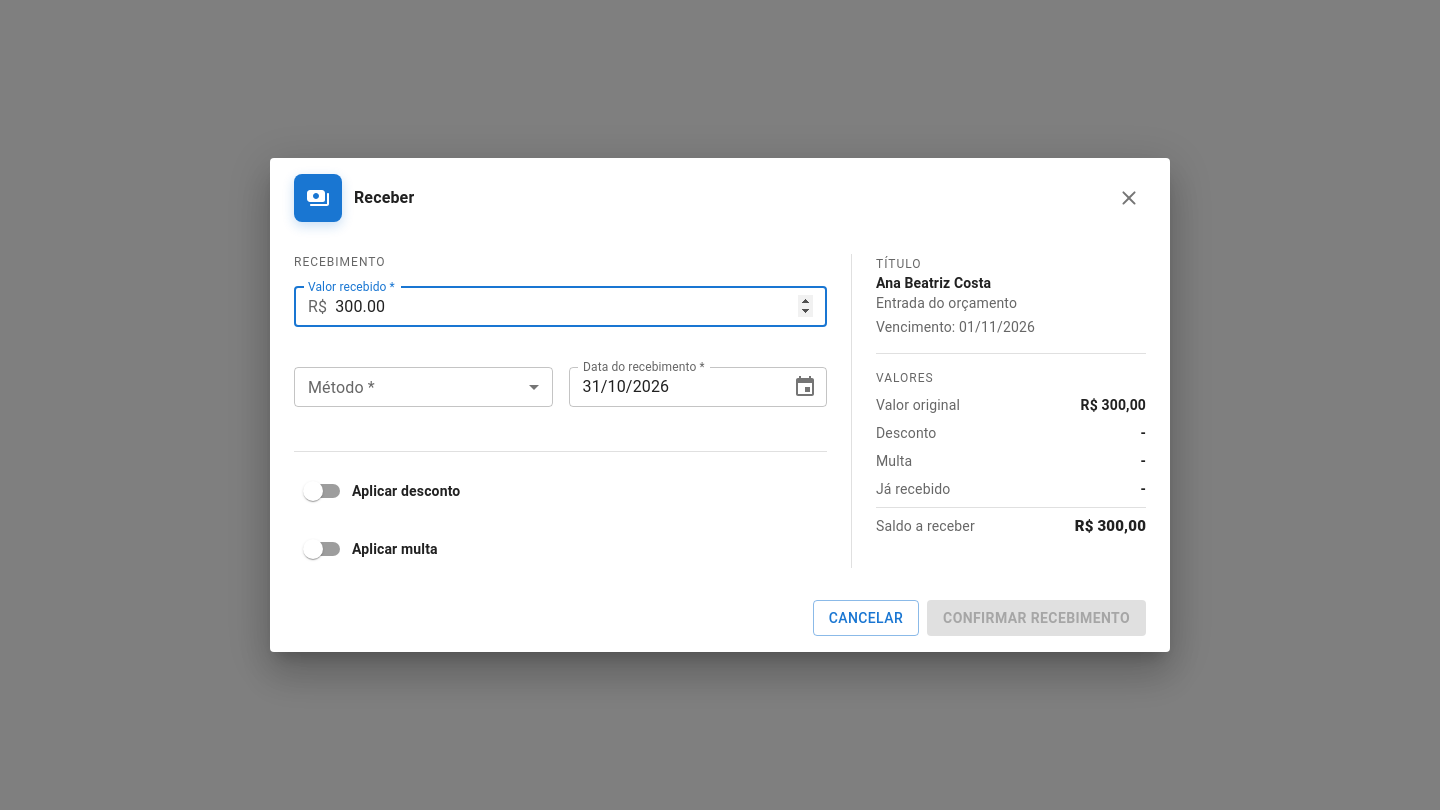
Test: ReceberTituloDialog (receber + desconto na mesma tela) › o desconto fica escondido até ligar o interruptor, e desligar de novo descarta o desconto digitado
Check: the field labelled "valor do desconto" is not shown
Check: the field labelled "motivo do desconto" is not shown
Click the switch labelled "Aplicar desconto" at [382, 490], box [303,480,460,500]
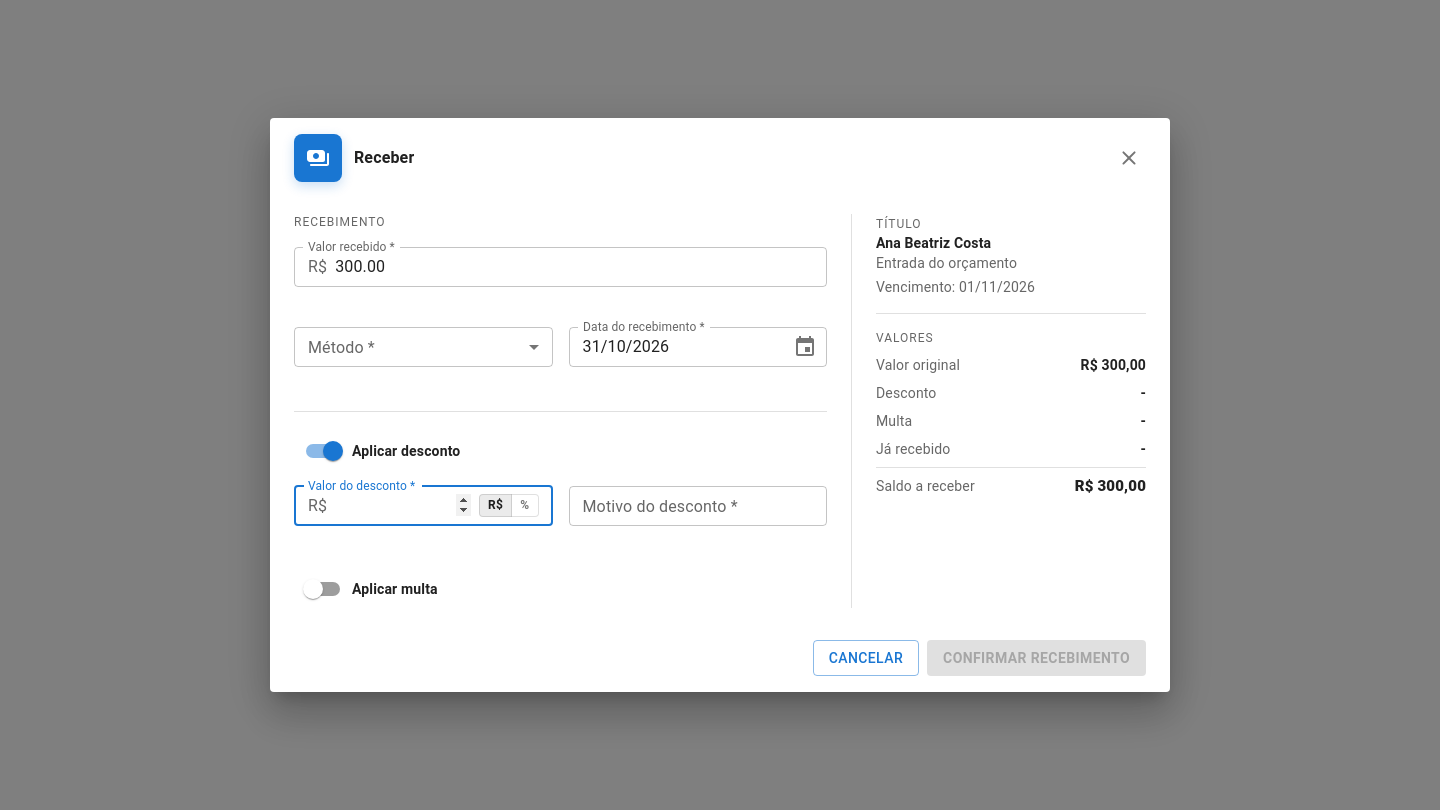
Type "50" into the number field labelled "Valor do desconto *" at [403, 506], box [335,486,471,526]
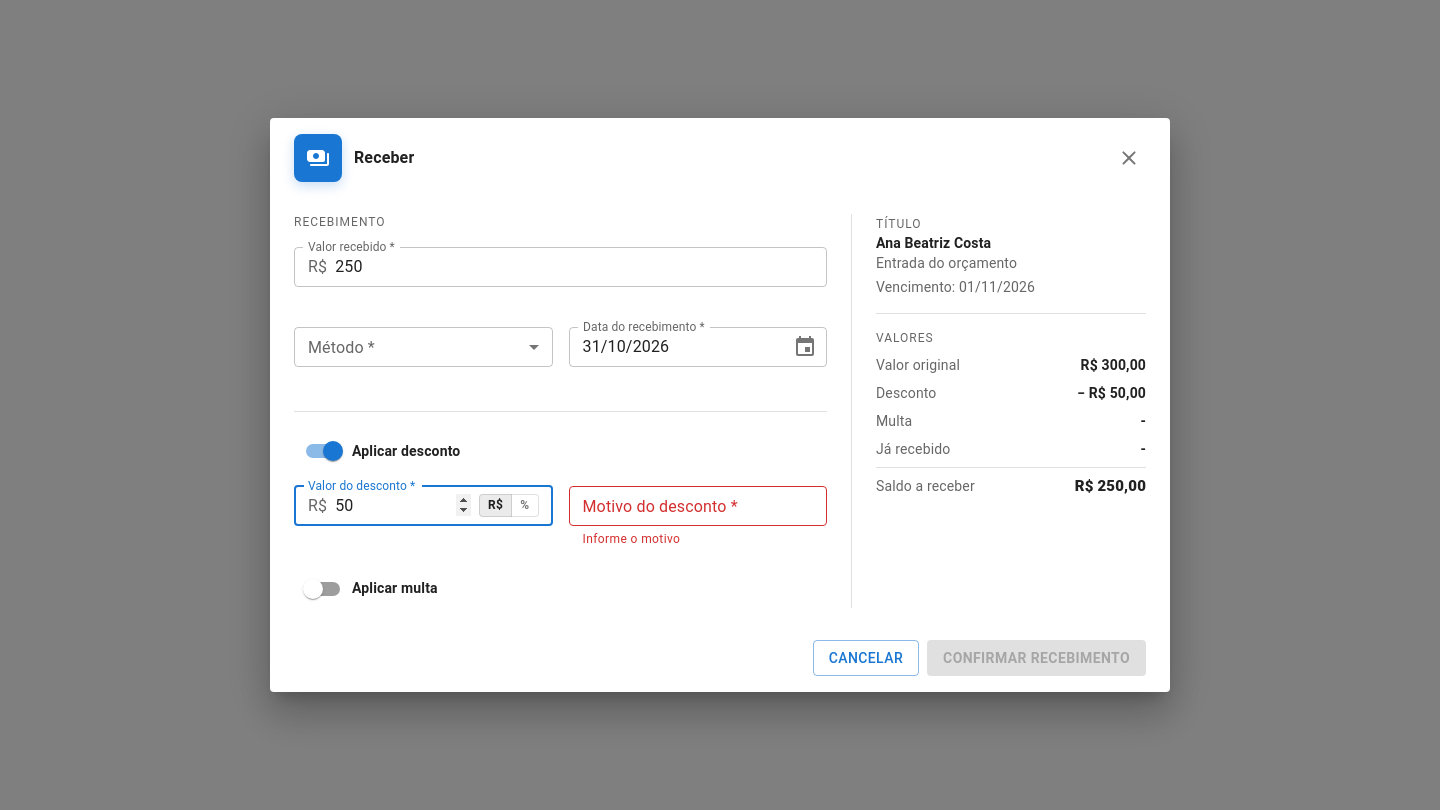
Click the switch labelled "Aplicar desconto" at [383, 451], box [306,441,460,461]
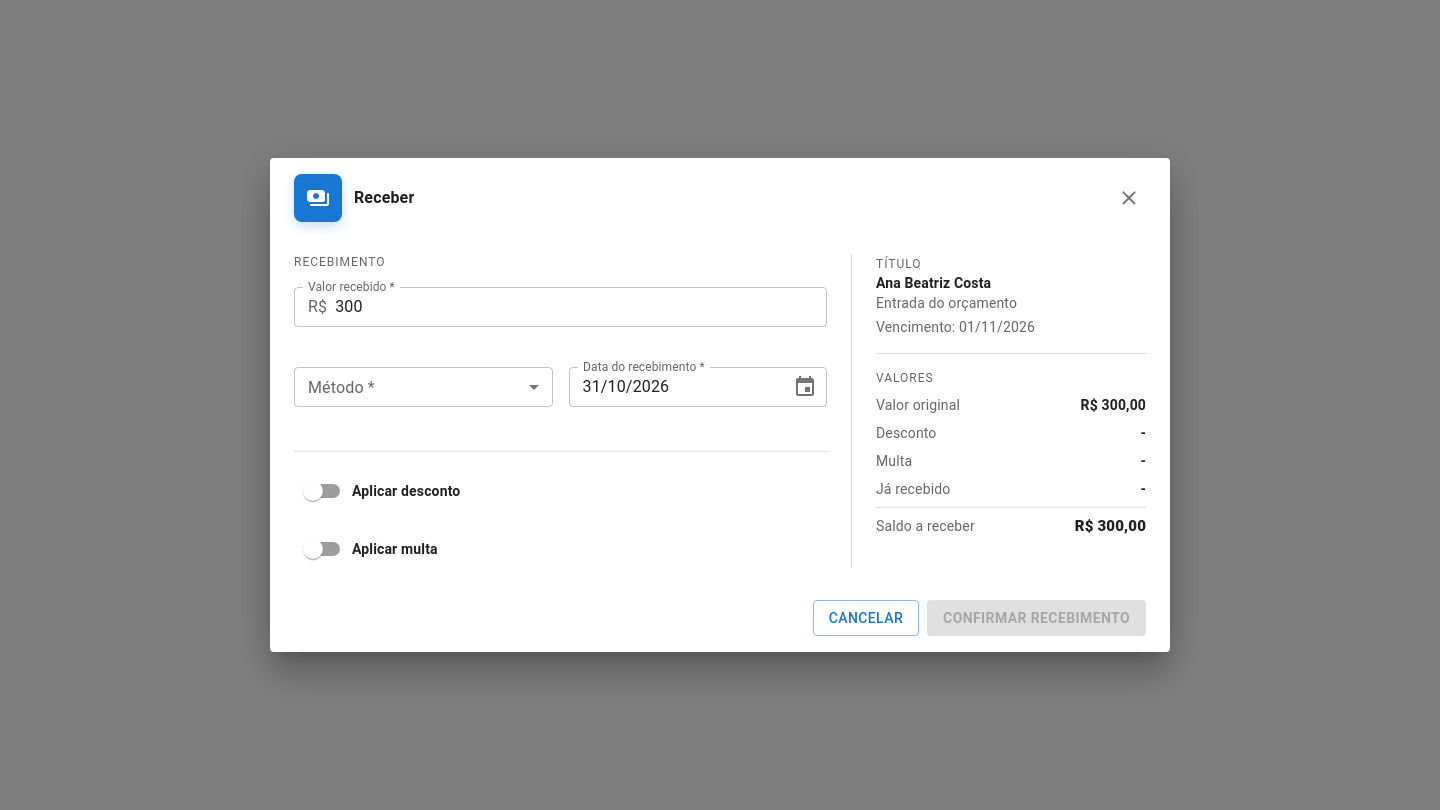
Check: the label labelled "Valor do desconto" is gone
